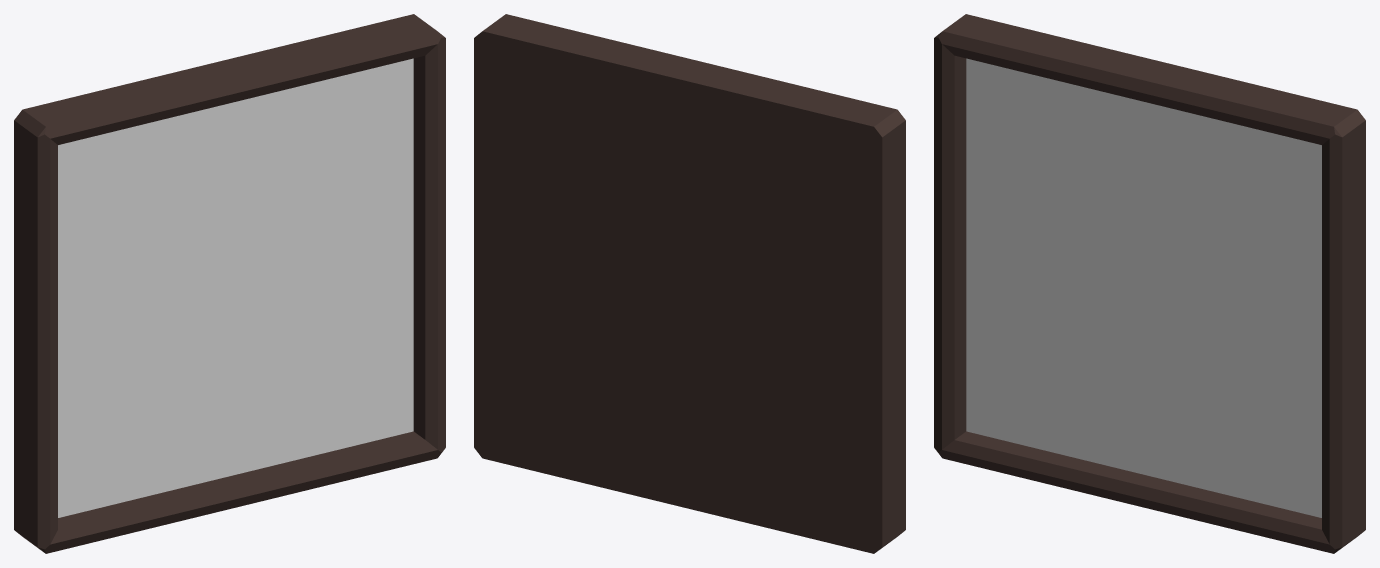
The model's file is PaintingFrame.fbx.
The picture shows the model from 3 angles, left to right: view 1: azimuth 30°, elevation 25°; view 2: azimuth 150°, elevation 25°; view 3: azimuth 330°, elevation 25°; orthographic projection.
Visible parts, largest first — view 1: Frame; view 2: Frame; view 3: Frame.
Boxes of the visible parts, bbox=[...] form: Frame: bbox=[14, 14, 445, 553]; Frame: bbox=[474, 14, 905, 553]; Frame: bbox=[934, 14, 1365, 553].
Size of the model in its own units: 1 by 1 by 0.11.
